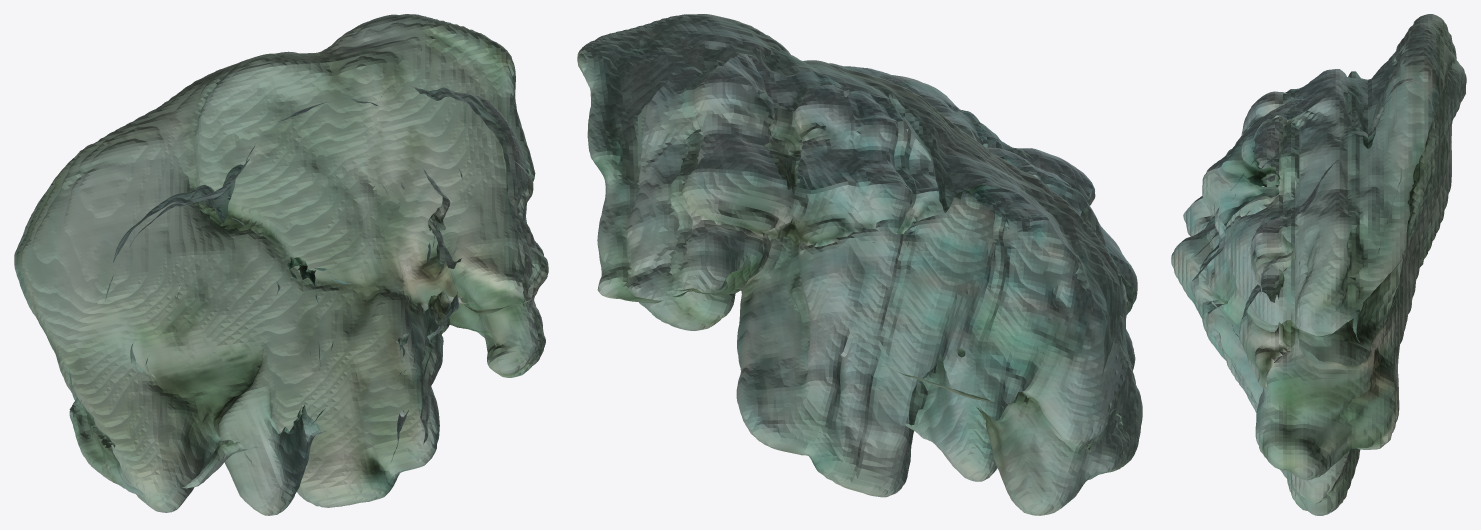
3 renders of one model, left to right at view 1: azimuth 30°, elevation 25°; view 2: azimuth 150°, elevation 25°; view 3: azimuth 270°, elevation 25°, orthographic. The views are drawn at different scales.
Parts seen in each view (by area): view 1: geometry_0; view 2: geometry_0; view 3: geometry_0.
Boxes of the visible parts, x1,y1,x2,y2 form: geometry_0: [14, 14, 548, 515]; geometry_0: [577, 14, 1142, 515]; geometry_0: [1171, 14, 1466, 515].
Size of the model in its own units: 1.6 by 1.34 by 0.7999.
